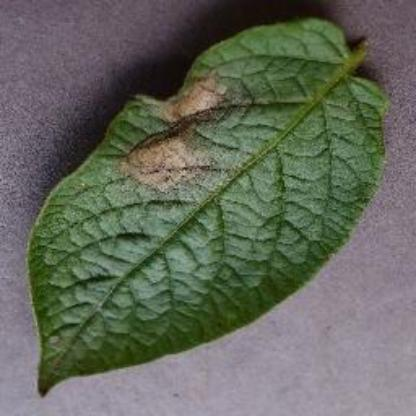Late-Blight: (42, 34, 408, 362)
